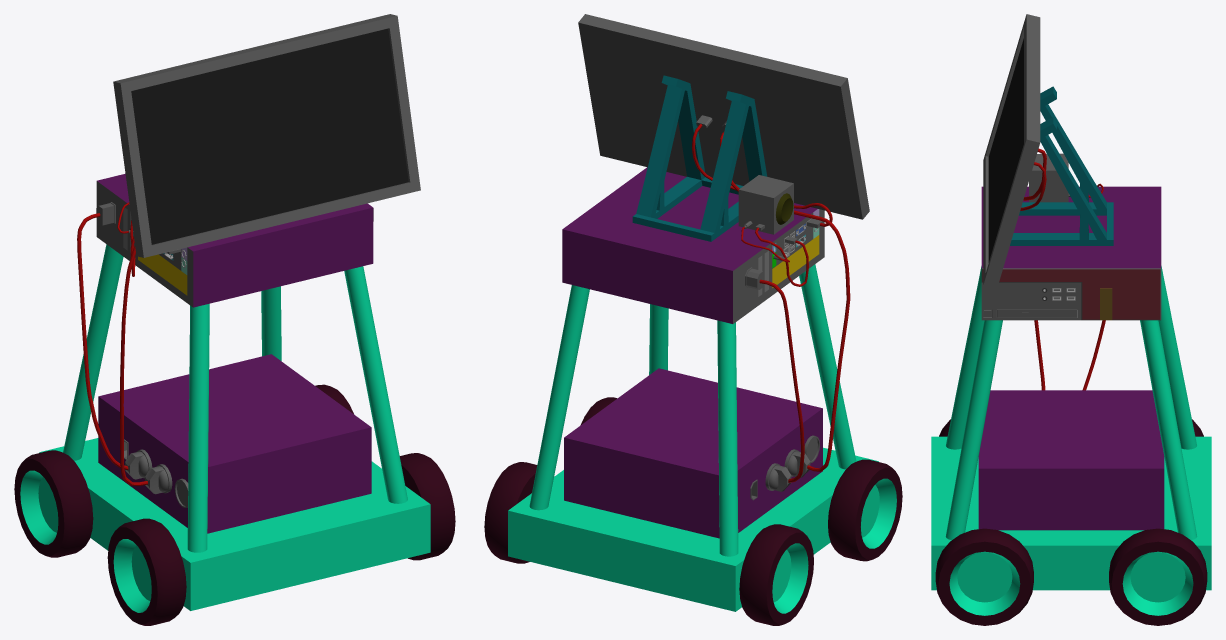
Rendered from CERES.fbx.
The picture shows the model from 3 angles, left to right: view 1: azimuth 30°, elevation 25°; view 2: azimuth 150°, elevation 25°; view 3: azimuth 270°, elevation 25°; orthographic projection. The views are drawn at different scales.
Visible parts, largest first — view 1: PLUTO; view 2: PLUTO; view 3: PLUTO.
Boxes of the visible parts, box(x1,y1,x2,y2) form: PLUTO: box(14, 14, 455, 625); PLUTO: box(484, 14, 902, 625); PLUTO: box(931, 14, 1211, 625).
Bounding box in the file's own units: 51.6 × 86.34 × 45.36.
